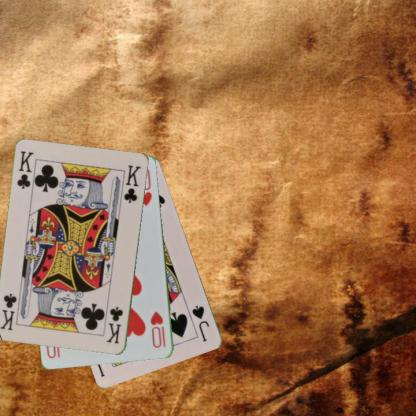10h: (148, 308, 167, 350)
Js: (189, 303, 211, 343)
Kc: (14, 148, 36, 190), (104, 304, 124, 345)
